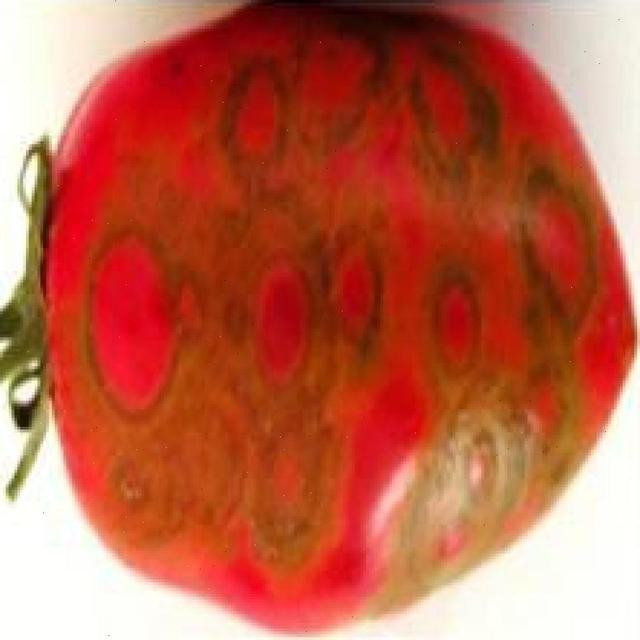Spotted wilt Virus Fruit: (25, 2, 427, 425)
